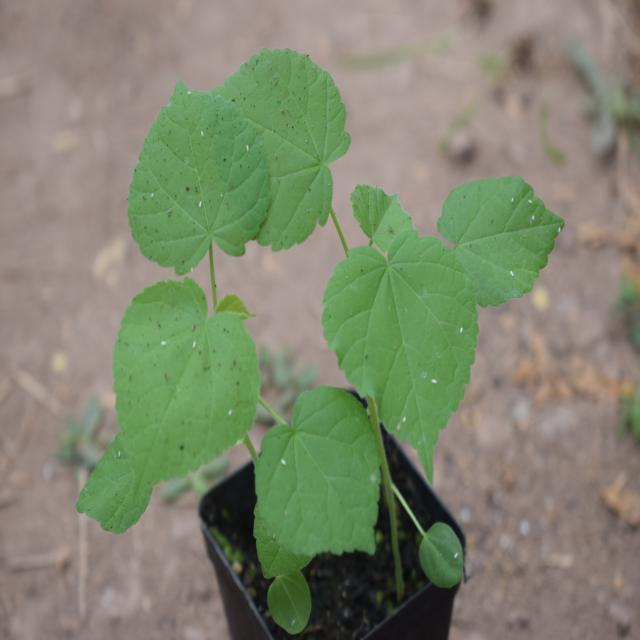abutilon theophrasti: (204, 36, 540, 575), (88, 68, 350, 586)
